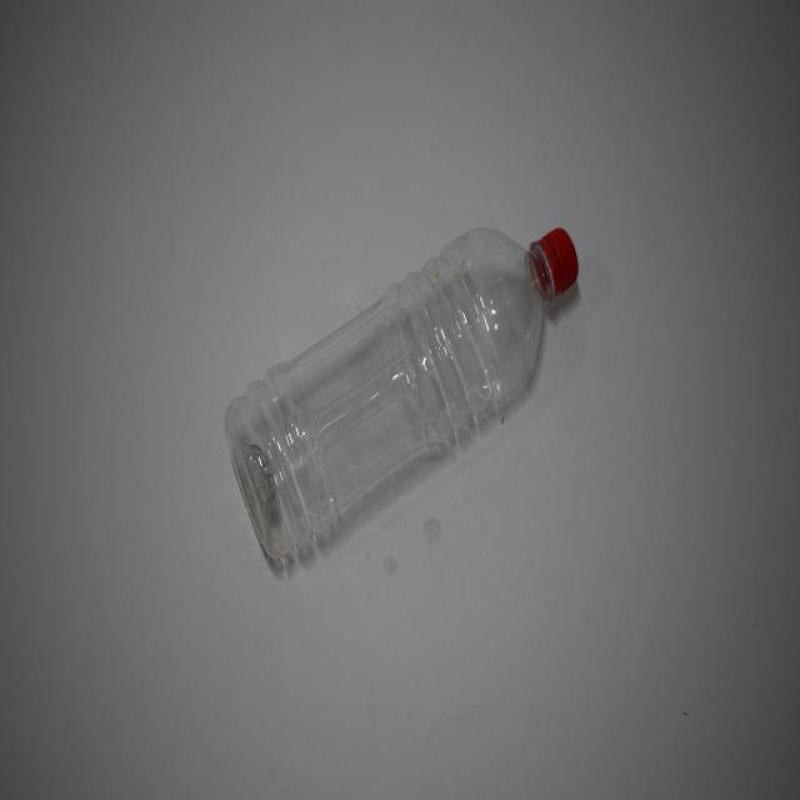botella: (223, 214, 579, 585)
